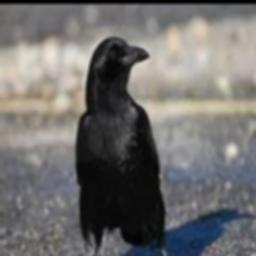Crow: (76, 36, 173, 256)
